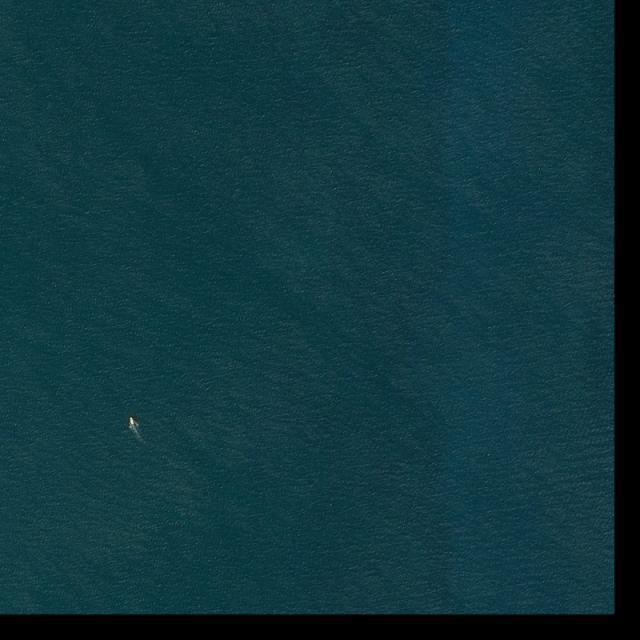ship: (128, 417, 139, 431)
